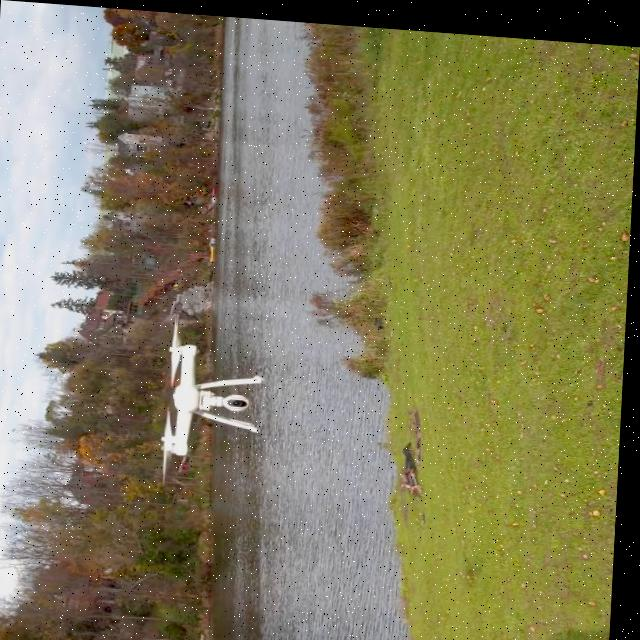drone: (150, 320, 237, 472)
